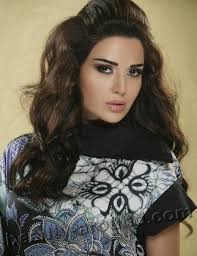middle_eastern_Female: (72, 20, 146, 131)
